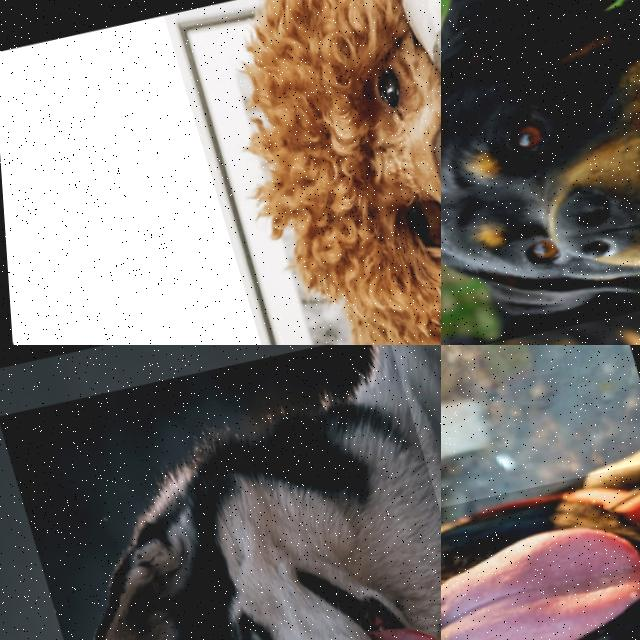husky: (0, 345, 441, 640)
poodle: (161, 0, 441, 345)
rottweiler: (441, 0, 640, 345), (441, 453, 640, 640)
